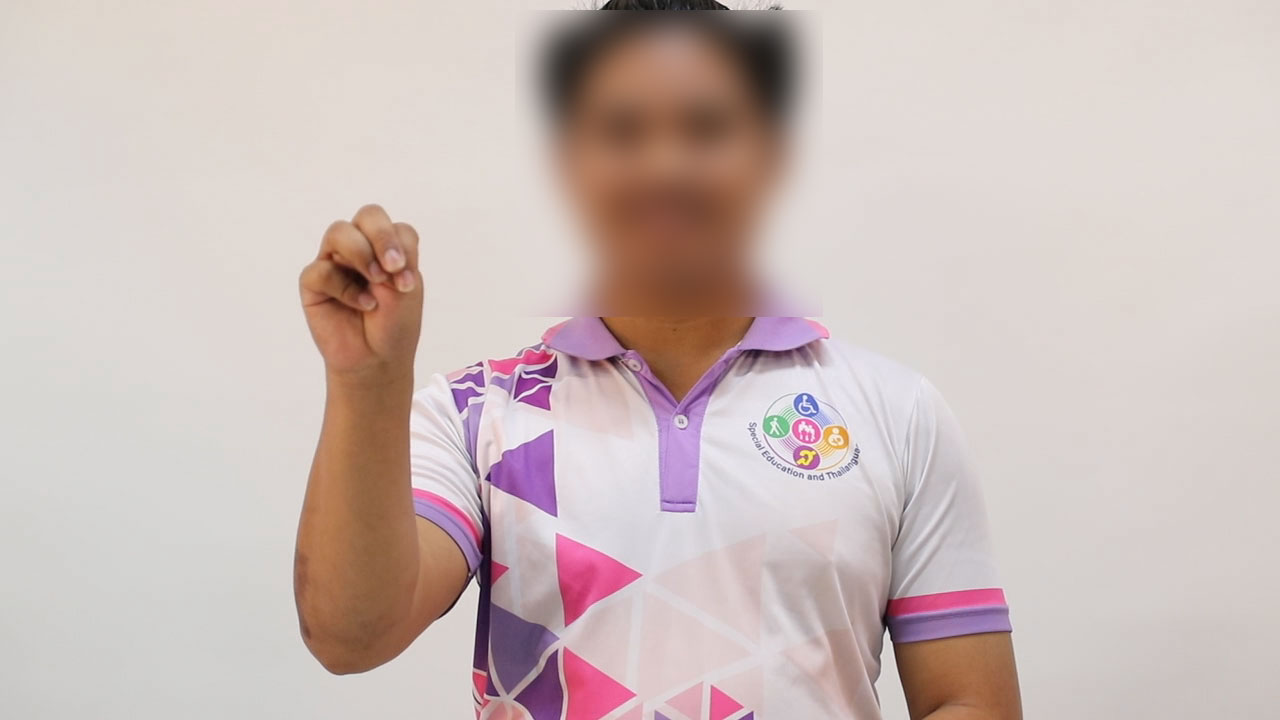mor: (276, 180, 441, 381)
